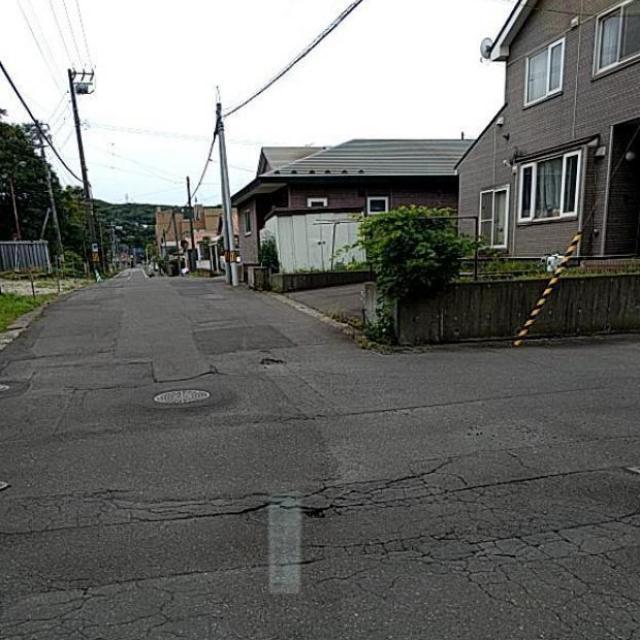Melintang: (0, 498, 640, 620)
Retak Buaya: (411, 514, 640, 640)
